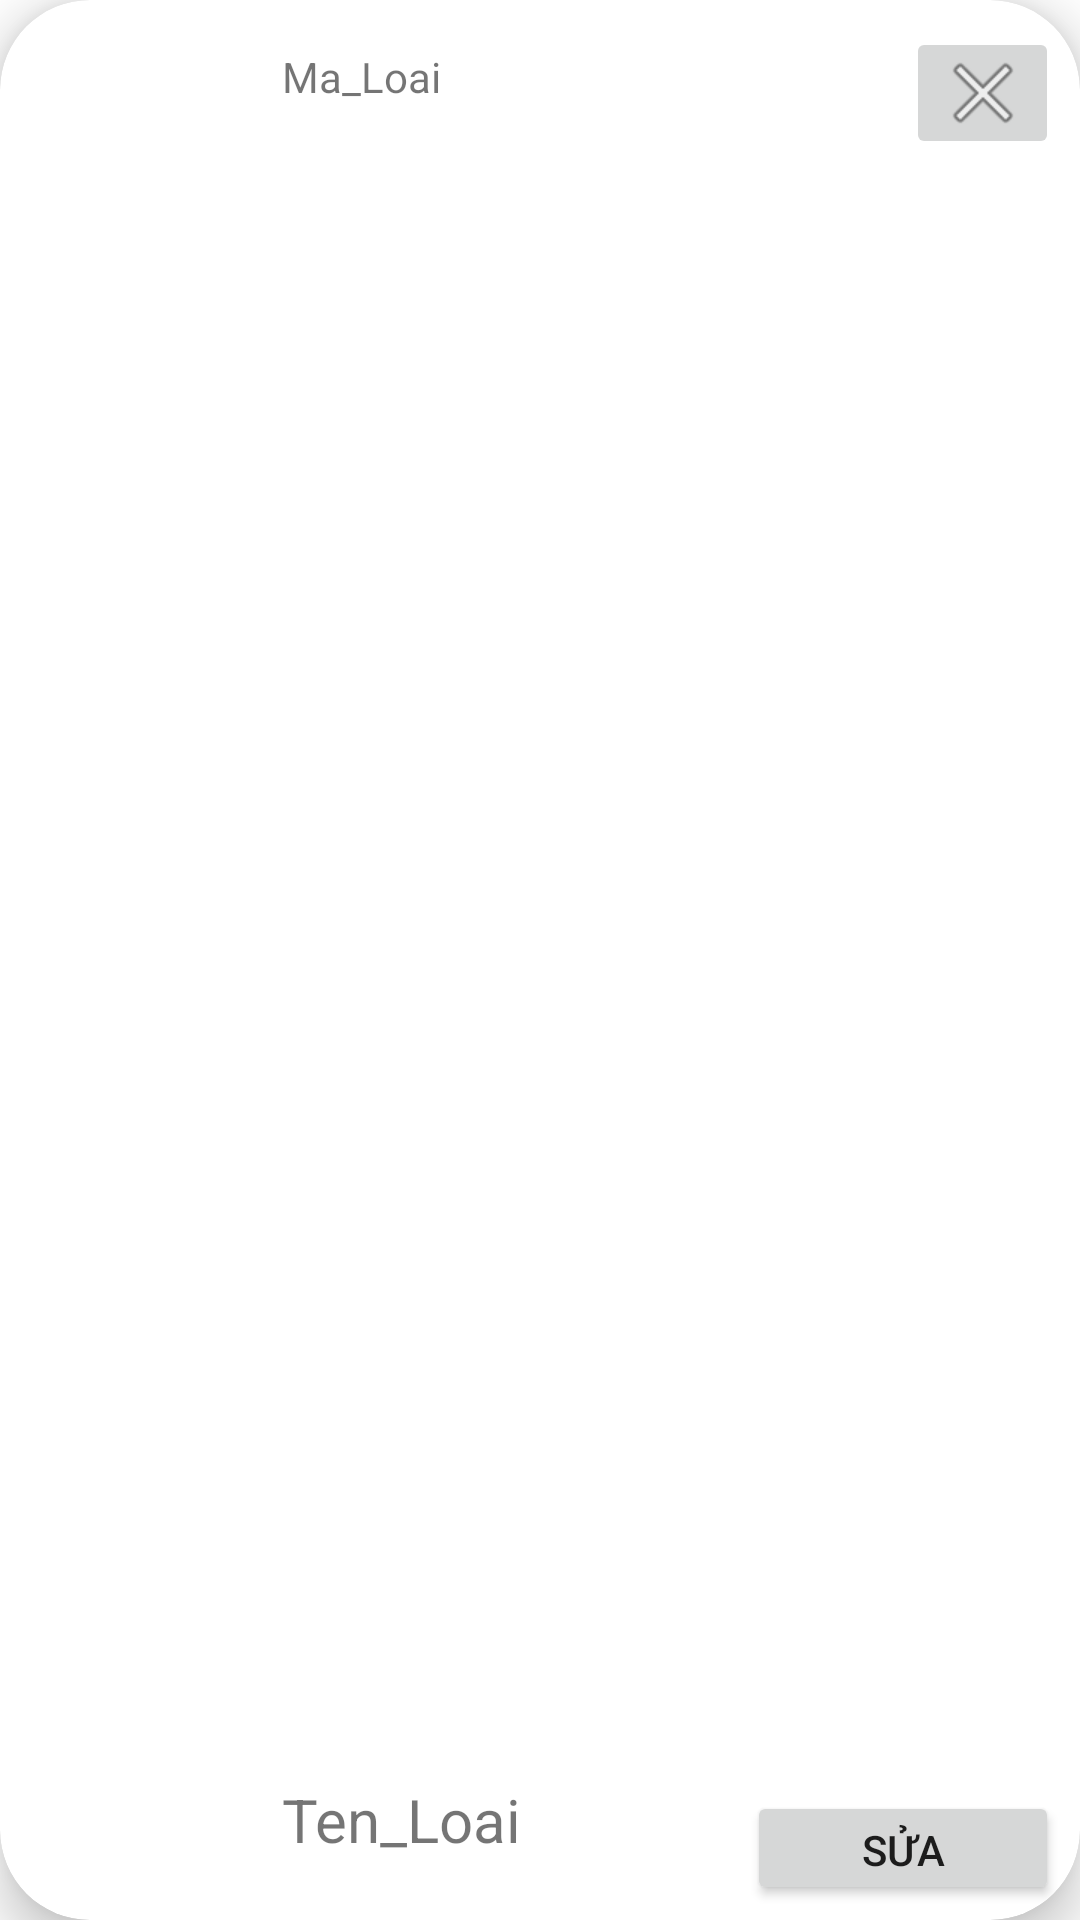

Icons on this 1080 × 1920 Android screen, each with the point to tap as (x,y):
close clear cancel: (982,93)
